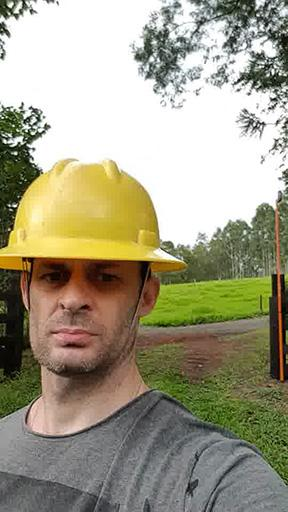Vara_Manobra: (273, 207, 287, 385)
